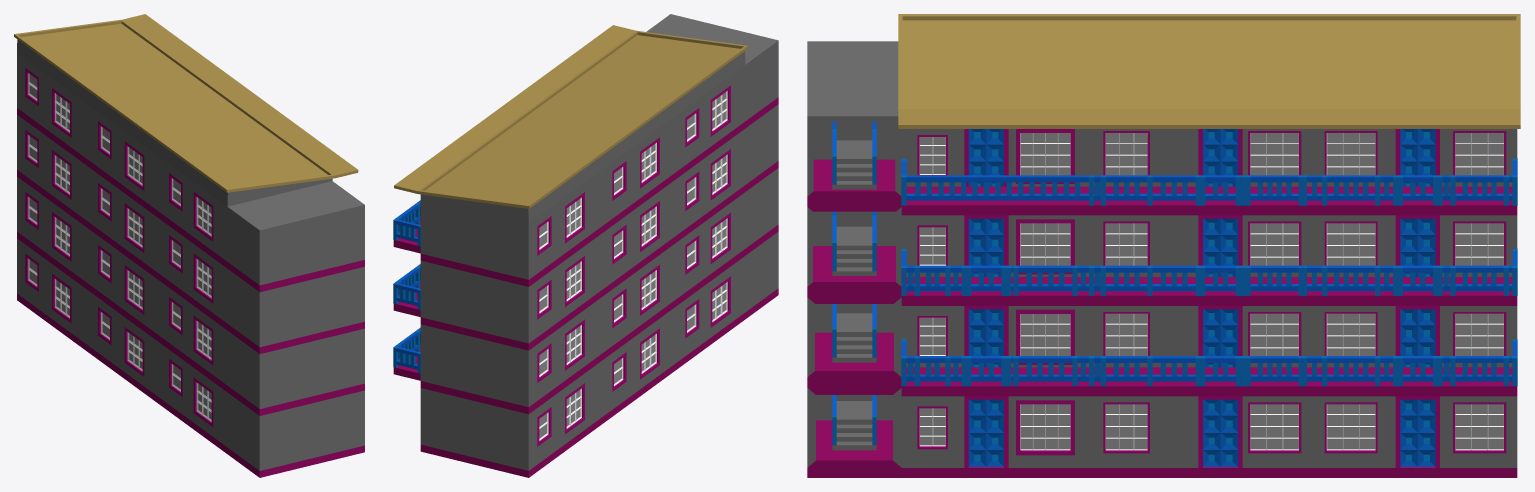
The model's file is Goshen old.fbx.
3 renders of one model, left to right at view 1: azimuth 30°, elevation 25°; view 2: azimuth 150°, elevation 25°; view 3: azimuth 270°, elevation 25°, orthographic. The views are drawn at different scales.
Parts seen in each view (by area): view 1: building_003; view 2: building_003; view 3: building_003.
Part boxes in pixels (x1,y1,x2,y2): building_003: (14,14,364,477); building_003: (393,14,778,477); building_003: (807,14,1520,477).
Bounding box in the file's own units: 507 × 965 × 1609.
